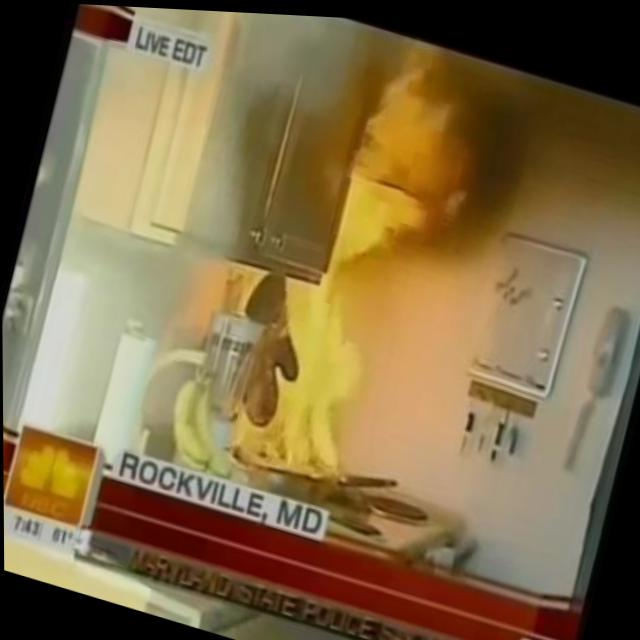fire: (177, 7, 504, 504)
